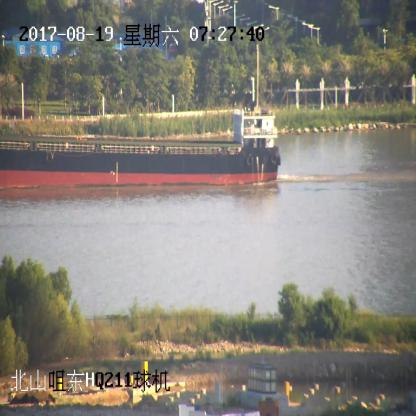Bulk Carrier: (0, 46, 284, 188)
